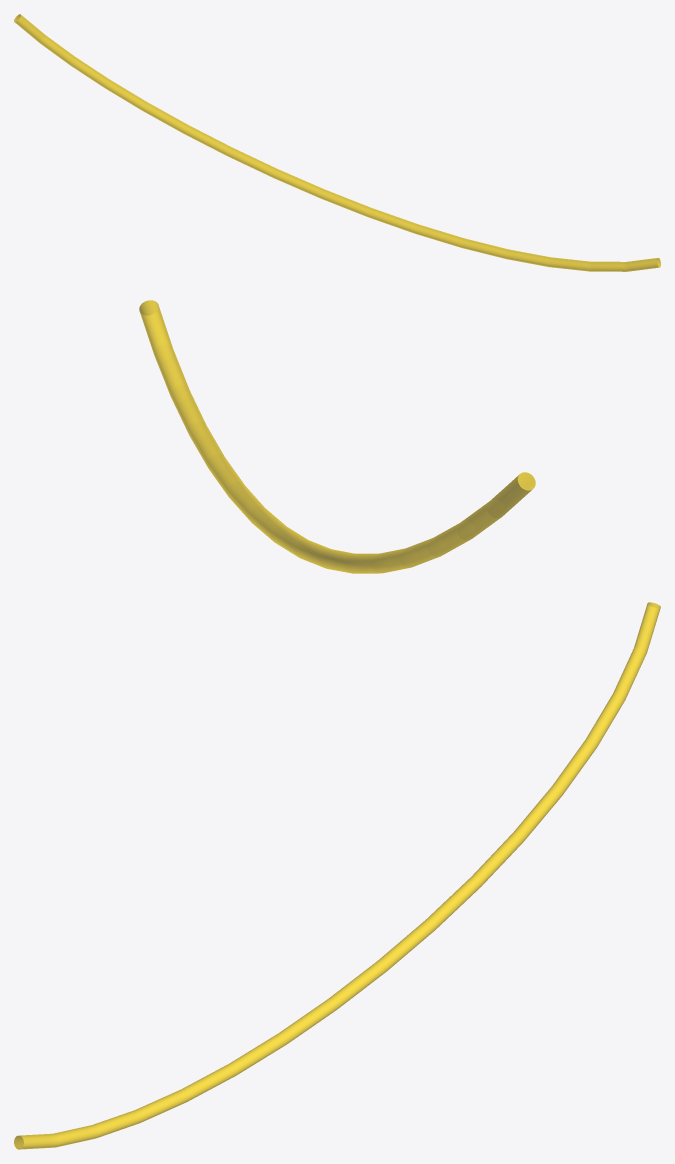
The model's file is Event_17758602_track_132.fbx.
3 views of the same model, one above another, from view 1: azimuth 30°, elevation 25°; view 2: azimuth 150°, elevation 25°; view 3: azimuth 270°, elevation 25° (orthographic). The views are drawn at different scales.
Visible parts, largest first — view 1: Model; view 2: Model; view 3: Model.
Boxes of the visible parts, x1,y1,x2,y2 form: Model: (14, 14, 660, 271); Model: (139, 300, 535, 573); Model: (14, 602, 660, 1149).
Size of the model in its own units: 1.94 by 0.8889 by 1.84.
